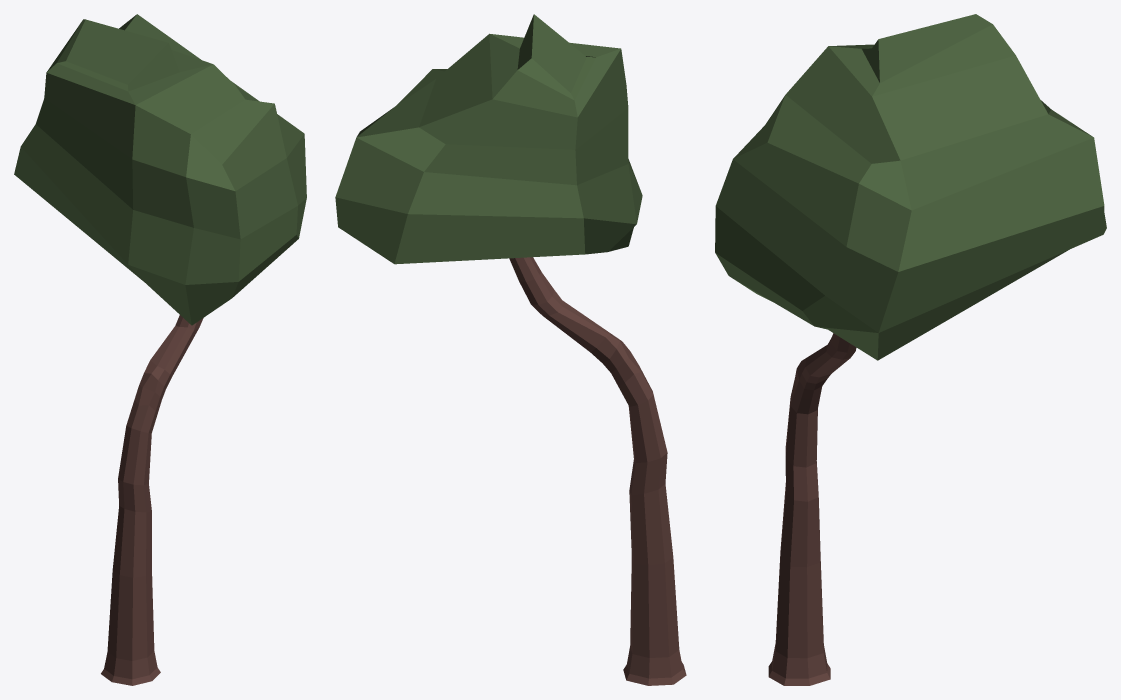
The model's file is Orange_3.gltf.
The picture shows the model from 3 angles, left to right: view 1: azimuth 30°, elevation 25°; view 2: azimuth 150°, elevation 25°; view 3: azimuth 270°, elevation 25°; orthographic projection. The views are drawn at different scales.
Parts seen in each view (by area): view 1: Orange_3; view 2: Orange_3; view 3: Orange_3.
Part boxes in pixels (x1,y1,x2,y2): Orange_3: [14, 14, 306, 685]; Orange_3: [335, 14, 686, 685]; Orange_3: [715, 14, 1106, 685].
Bounding box in the file's own units: 0.9217 × 2.12 × 1.12.
